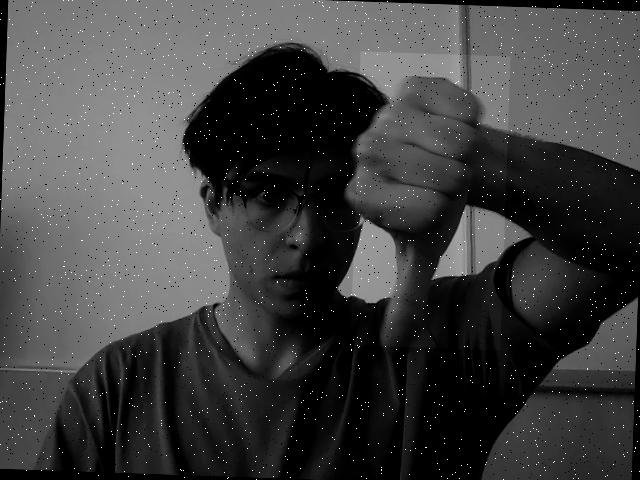bad: (350, 52, 510, 350)
